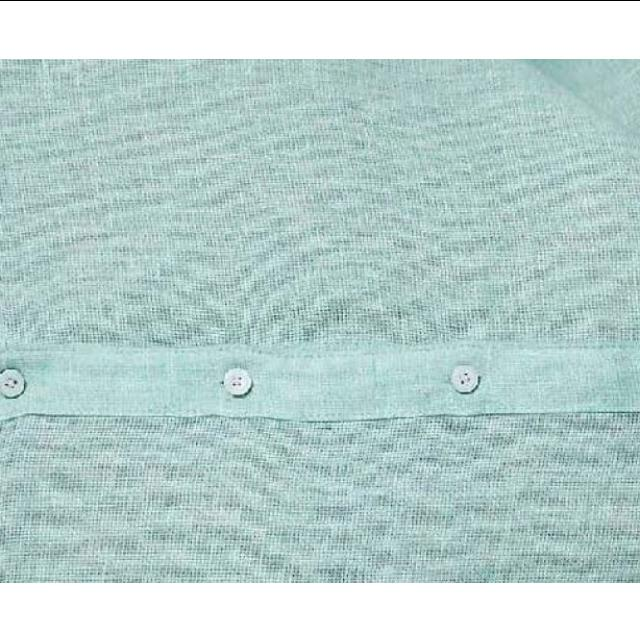linen: (1, 58, 490, 582)
